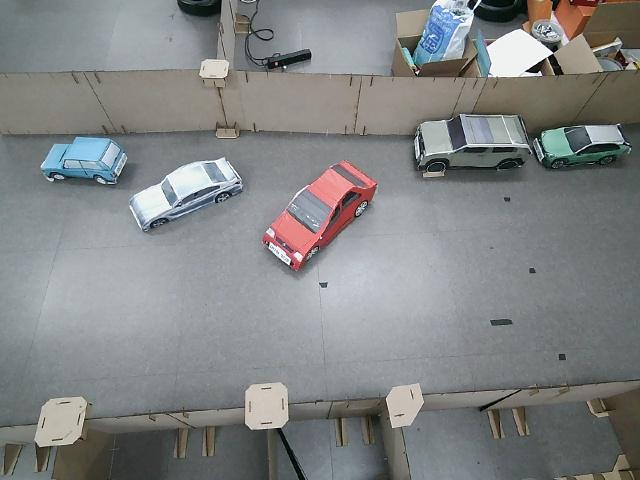car: (260, 159, 377, 272), (130, 157, 243, 231), (414, 113, 530, 172), (534, 121, 631, 167), (41, 136, 127, 186)
